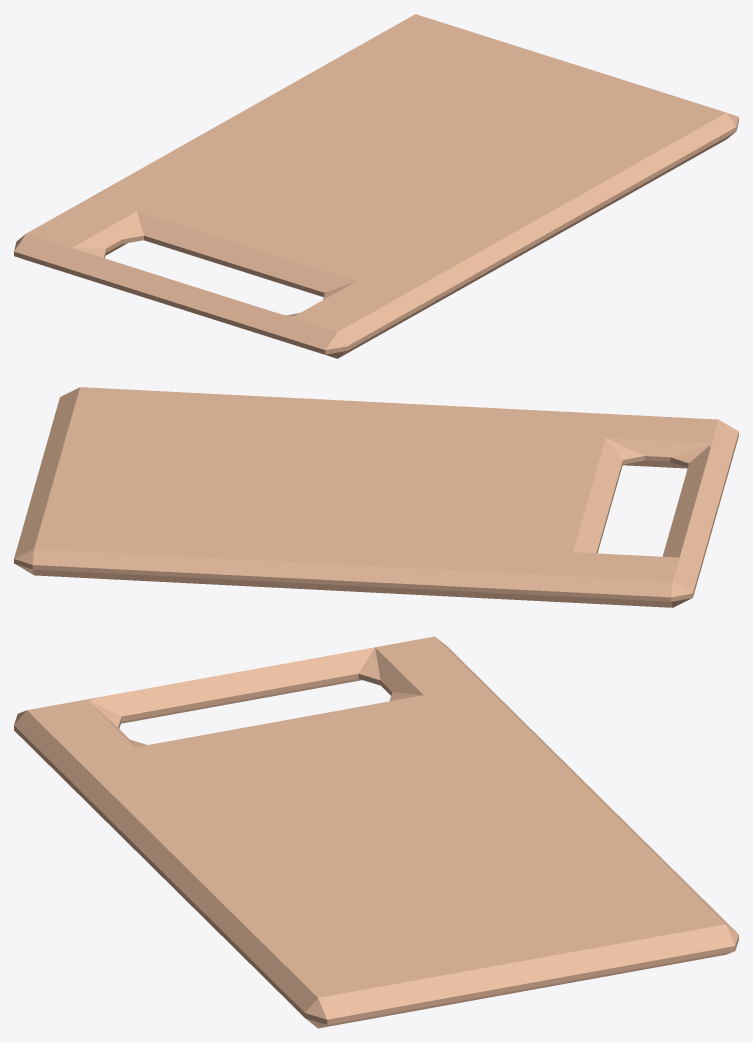
The picture shows the model from 3 angles, top to bottom: view 1: azimuth 30°, elevation 25°; view 2: azimuth 150°, elevation 25°; view 3: azimuth 270°, elevation 25°; orthographic projection. The views are drawn at different scales.
Visible parts, largest first — view 1: Plane.001; view 2: Plane.001; view 3: Plane.001.
Part boxes in pixels (x1,y1,x2,y2): Plane.001: [14, 14, 738, 358]; Plane.001: [14, 387, 738, 607]; Plane.001: [14, 636, 738, 1028].
Size of the model in its own units: 89.77 by 3.37 by 72.45.
